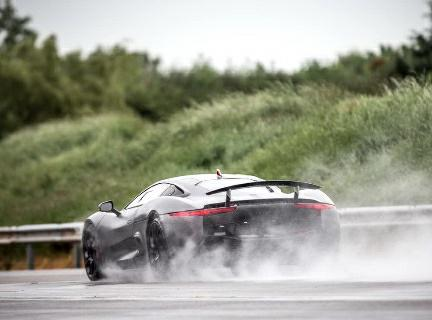捷豹-C-X75: (80, 167, 347, 280)
